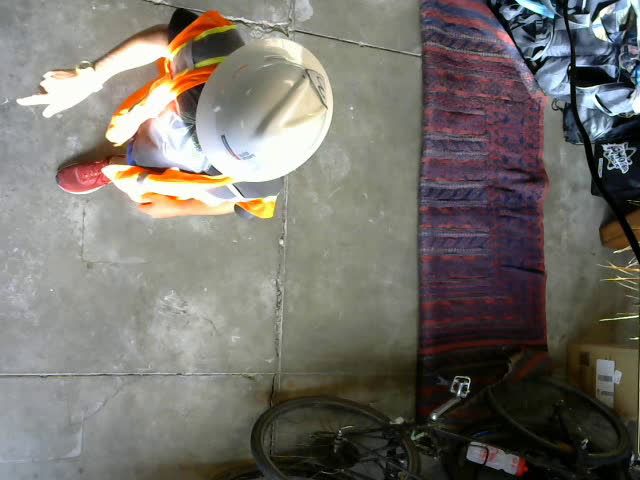three: (306, 68, 329, 109)
